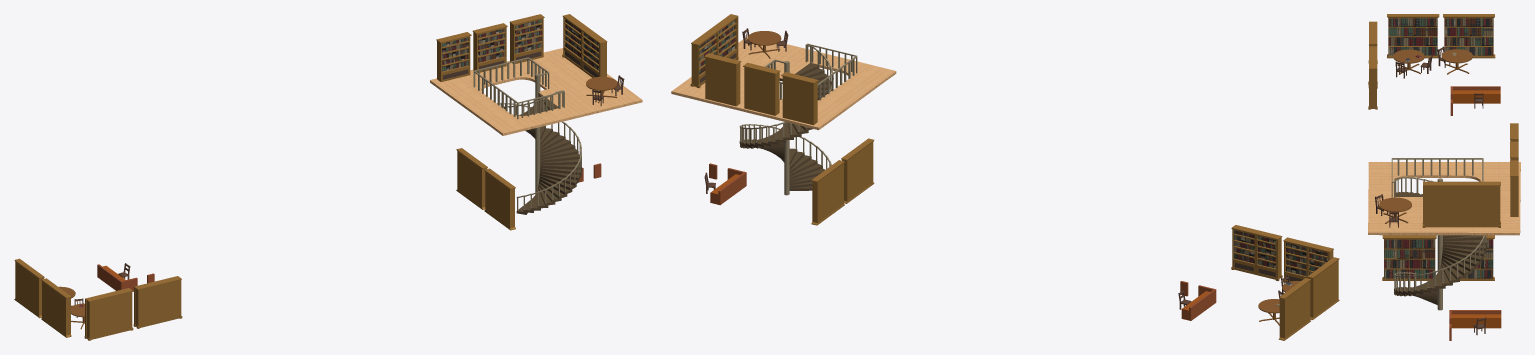
The model's file is Biblioteca.fbx.
3 renders of one model, left to right at view 1: azimuth 30°, elevation 25°; view 2: azimuth 150°, elevation 25°; view 3: azimuth 270°, elevation 25°, orthographic. The views are drawn at different scales.
Visible parts, largest first — view 1: Biblioteca; view 2: Biblioteca; view 3: Biblioteca.
Boxes of the visible parts, <box> form: Biblioteca: <box>14,14,642,340</box>; Biblioteca: <box>671,14,1339,340</box>; Biblioteca: <box>1368,14,1520,340</box>.
Size of the model in its own units: 822 by 207 by 185.
